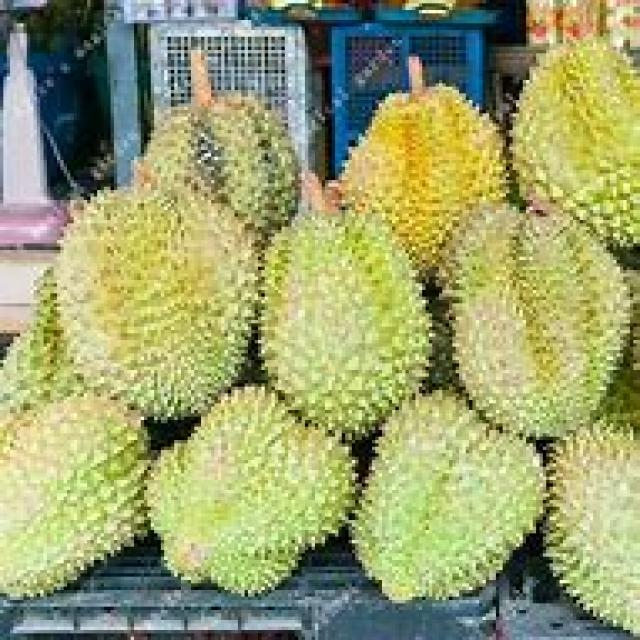mature: (342, 85, 505, 269)
